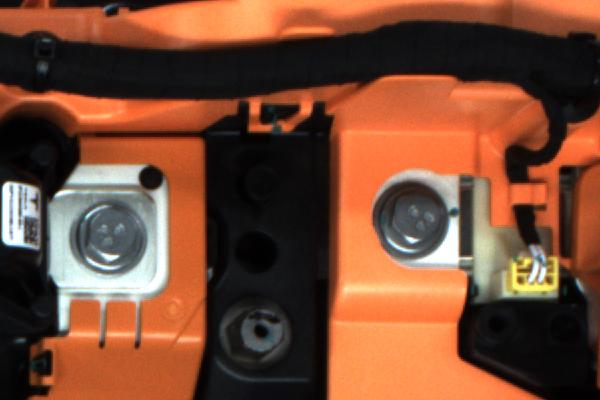nut_b: (61, 194, 161, 280), (368, 176, 451, 263)
